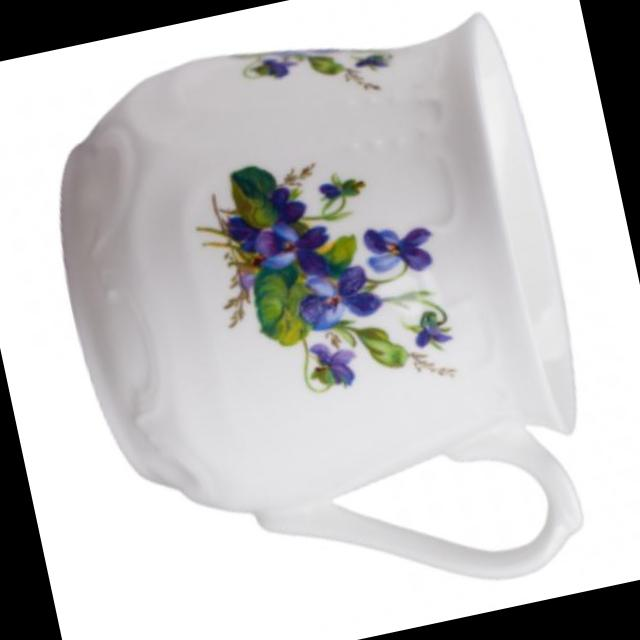Coffee Mug: (25, 0, 619, 640)
